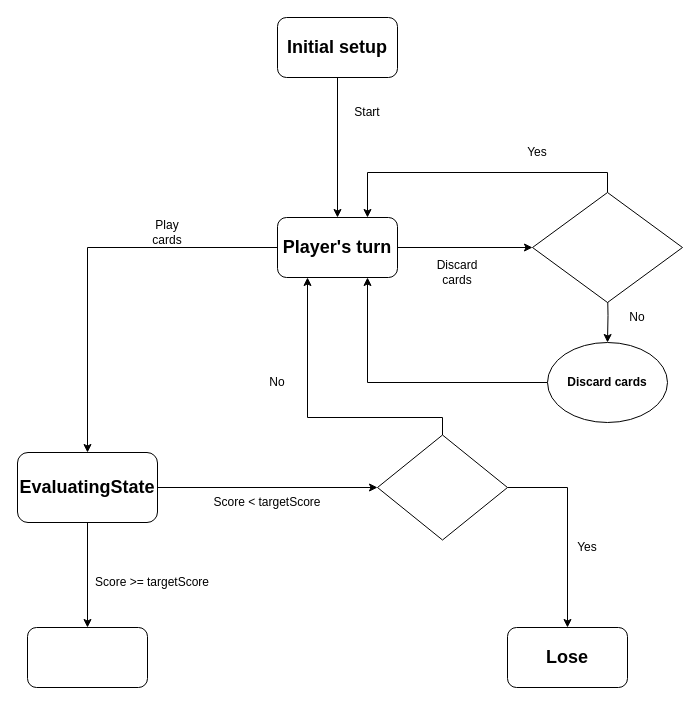
Image size: 700x705. Some labels were removed from this diagram. Each missing label, with the centre of its shape:
"Win" goes at (x=87, y=657).
"¿Discard count > 3?" goes at (x=607, y=247).
"¿Play count > 3?" goes at (x=442, y=487).
